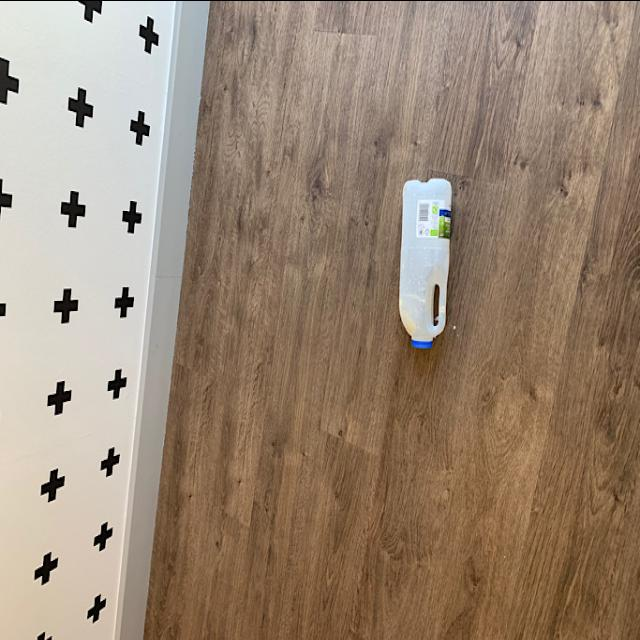litter: (398, 172, 456, 348)
